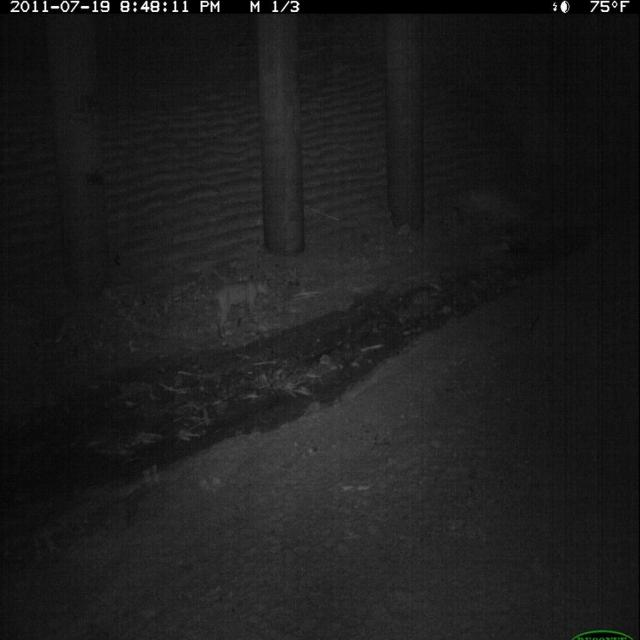bobcat: (210, 273, 275, 345)
